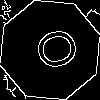O: (25, 25, 81, 76)
